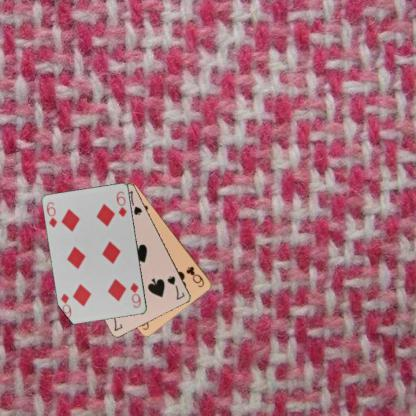6c: (184, 263, 206, 289)
6d: (44, 199, 59, 229), (128, 280, 142, 309)
7s: (165, 273, 186, 301)
